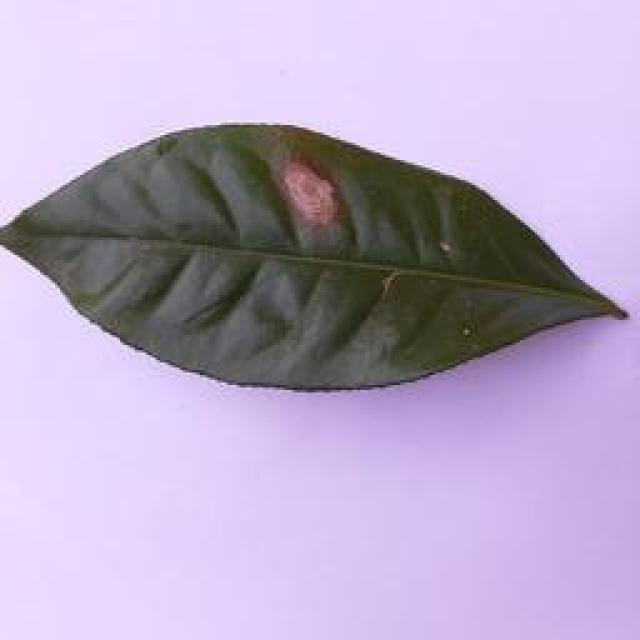Gray Blight: (1, 118, 628, 394)
